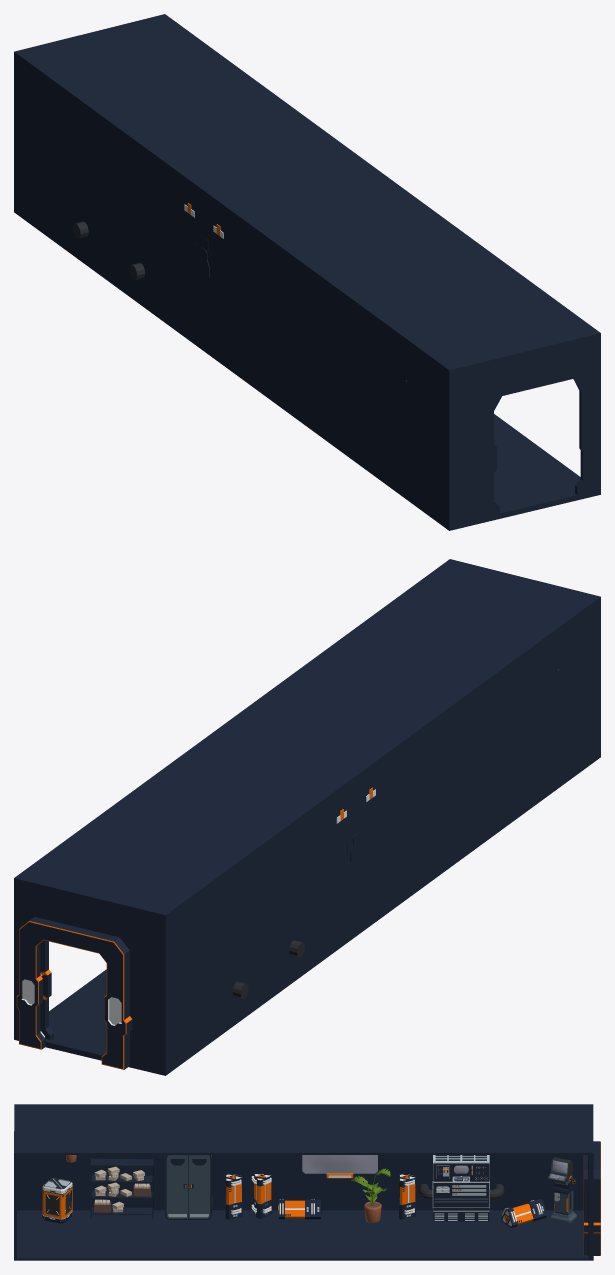
Rendered from Room_4.fbx.
The picture shows the model from 3 angles, top to bottom: view 1: azimuth 30°, elevation 25°; view 2: azimuth 150°, elevation 25°; view 3: azimuth 270°, elevation 25°; orthographic projection. The views are drawn at different scales.
Parts seen in each view (by area): view 1: Cube.008, Cube.249; view 2: Cube.008, Cube.041, Cube.249; view 3: Cube.008, Cylinder.013, Cube.043, Cube.249, Cube.059, Cube.041, Cube.044, Cube.245, Cylinder.010, Cylinder.008, Cylinder.012, Cylinder.022 (+2 smaller).
Part boxes in pixels (bbox=[...]): Cube.008: bbox=[14, 14, 600, 530]; Cube.249: bbox=[184, 203, 223, 277]; Cube.008: bbox=[14, 559, 600, 1075]; Cube.041: bbox=[16, 917, 132, 1069]; Cube.249: bbox=[336, 787, 375, 862]; Cube.008: bbox=[14, 1104, 593, 1260]; Cylinder.013: bbox=[418, 1155, 504, 1221]; Cube.043: bbox=[164, 1155, 212, 1219]; Cube.249: bbox=[298, 1155, 381, 1178]; Cube.059: bbox=[90, 1158, 153, 1218]; Cube.041: bbox=[583, 1141, 600, 1255]; Cube.044: bbox=[548, 1157, 576, 1222]; Cube.245: bbox=[42, 1177, 72, 1223]; Cylinder.010: bbox=[278, 1199, 321, 1219]; Cylinder.008: bbox=[251, 1172, 272, 1218]; Cylinder.012: bbox=[501, 1198, 546, 1227]; Cylinder.022: bbox=[225, 1173, 242, 1219].
Bounding box in the file's own units: 214 × 207 × 1025.
12 materials, 12 textured.
